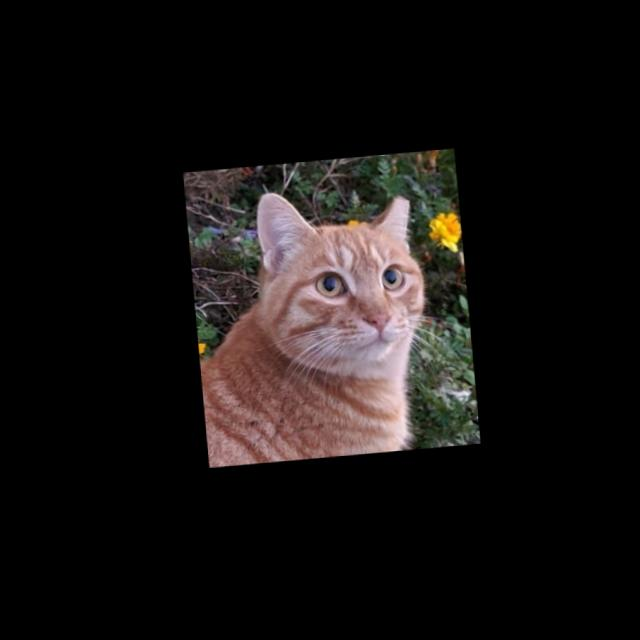animals: (246, 181, 431, 381)
